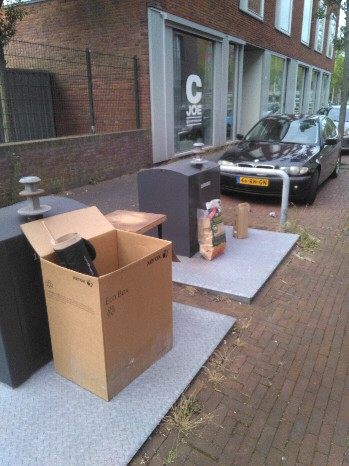Container: (5, 207, 51, 391), (136, 149, 204, 259)
Papier: (58, 230, 172, 377)
Rest: (203, 190, 244, 255)
Voertuig: (235, 101, 328, 218)
